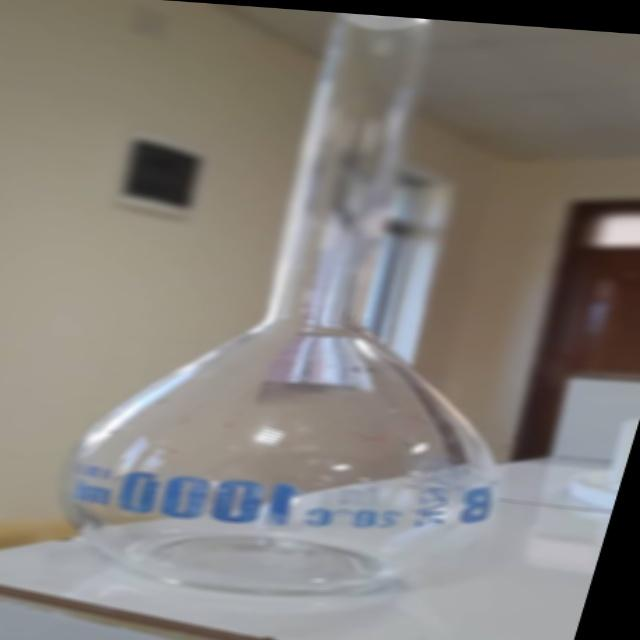Volumetric flask: (15, 1, 629, 602)
